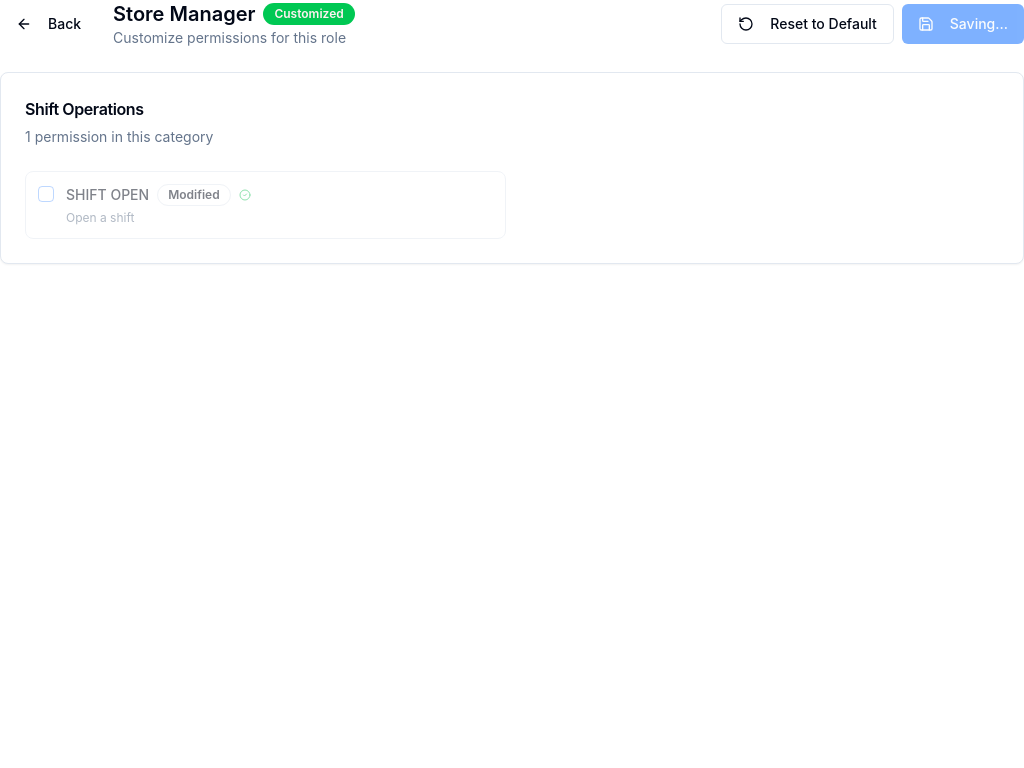
Test case: 2.92-COMPONENT: RolePermissionEditor - Reset to Default › [P0] 2.92-COMPONENT-052: should show confirmation dialog when Reset button is clicked (AC #6)
This screenshot has width=1024, height=768.
Note: Reset button is clicked
Click the button with test id "reset-to-default-button". click: (808, 24)
box: [721, 4, 894, 44]
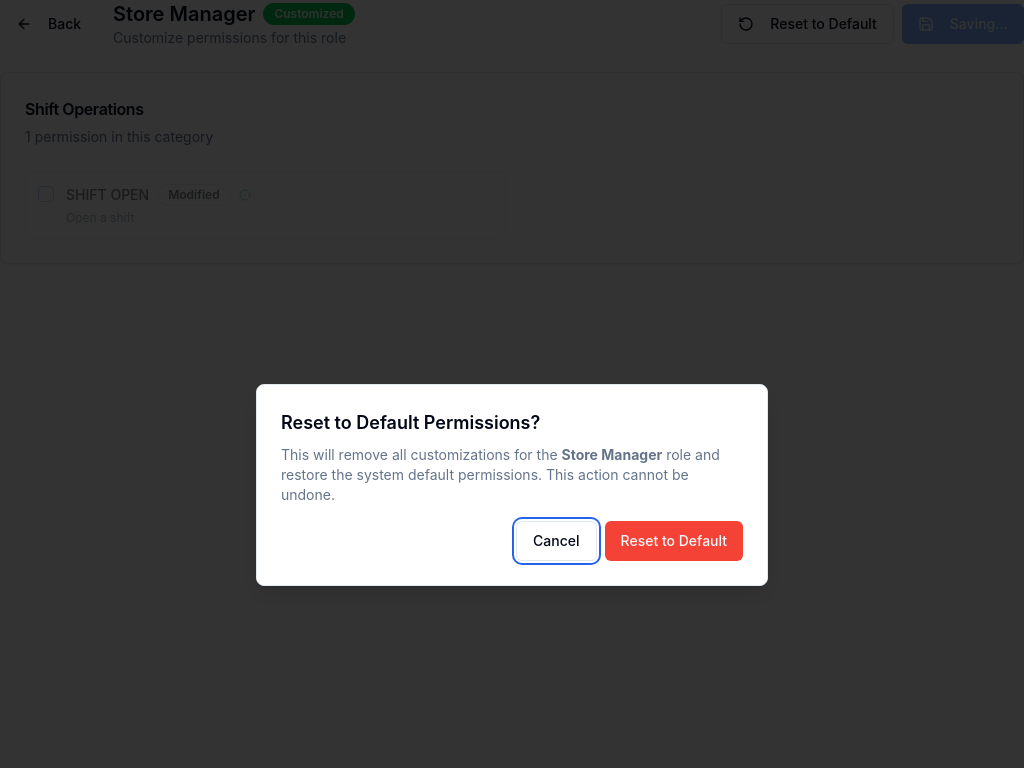
Result: the dialog with test id "reset-confirmation-dialog" is shown at [256, 384, 768, 586]
